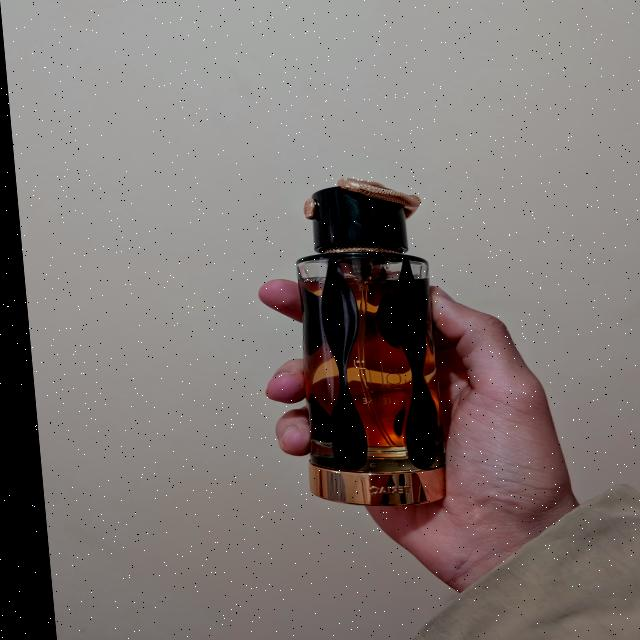Teriaq-Intense: (279, 178, 444, 507)
